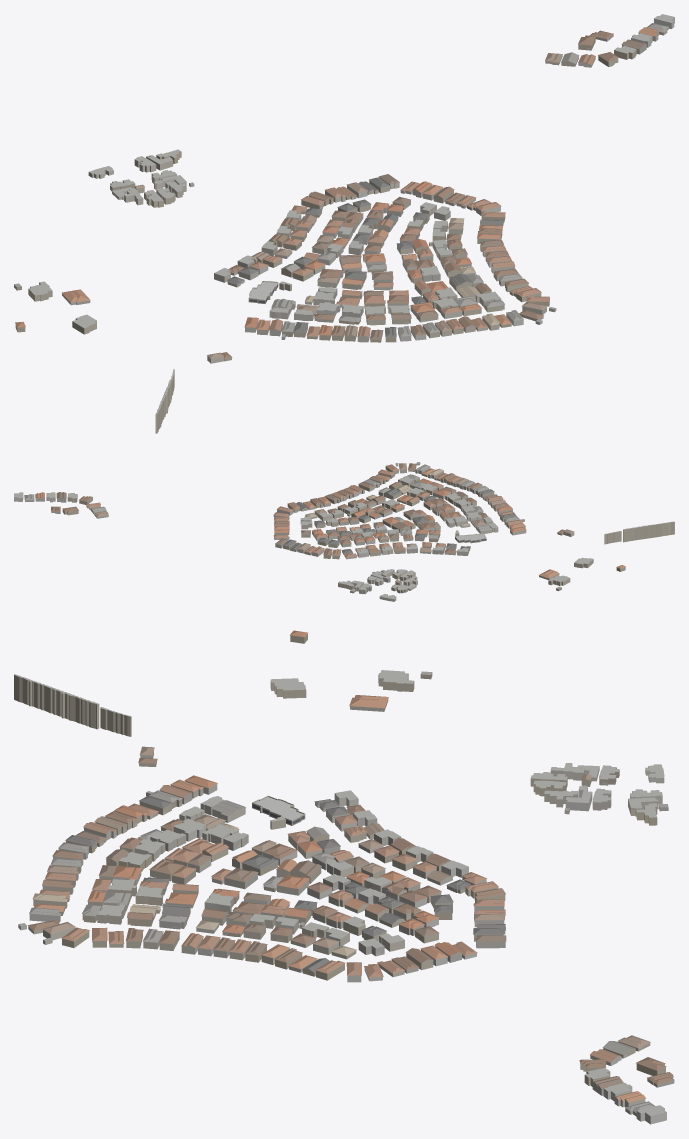
Rendered from buildings_r5_c2.glb.
The picture shows the model from 3 angles, top to bottom: view 1: azimuth 30°, elevation 25°; view 2: azimuth 150°, elevation 25°; view 3: azimuth 270°, elevation 25°; orthographic projection. The views are drawn at different scales.
Parts seen in each view (by area): view 1: buildings_r5_c2; view 2: buildings_r5_c2; view 3: buildings_r5_c2.
Boxes of the visible parts, <box> form: buildings_r5_c2: <box>14,14,674,433</box>; buildings_r5_c2: <box>14,462,674,601</box>; buildings_r5_c2: <box>14,630,674,1124</box>.
Size of the model in its own units: 1037 by 67.13 by 569.
